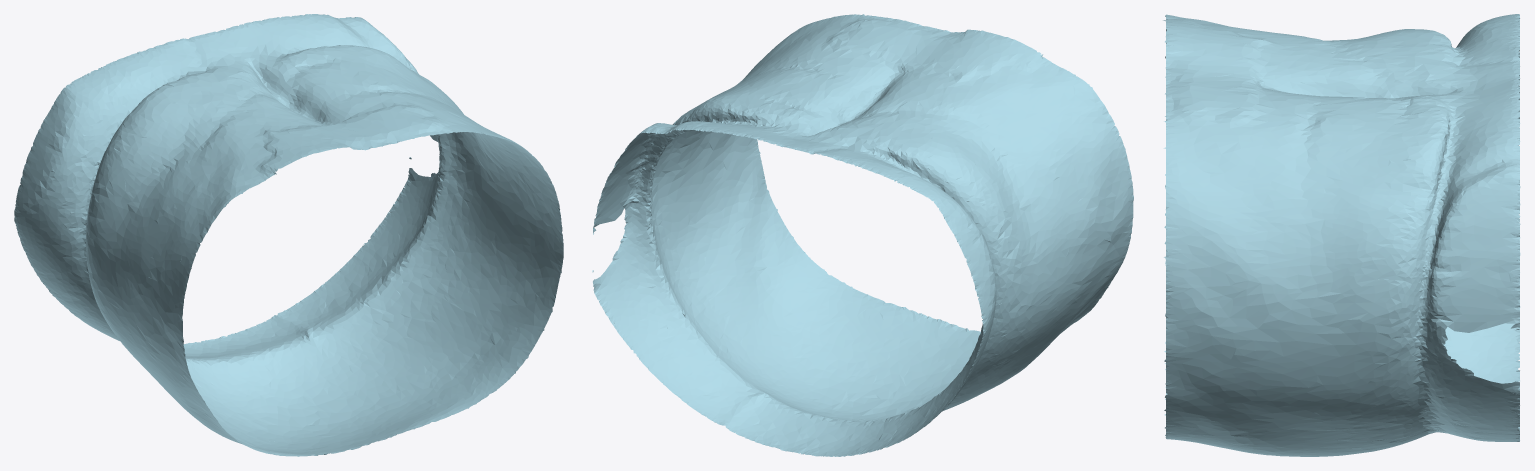
File: skin.obj
The picture shows the model from 3 angles, left to right: view 1: azimuth 30°, elevation 25°; view 2: azimuth 150°, elevation 25°; view 3: azimuth 270°, elevation 25°; orthographic projection. The views are drawn at different scales.
Visible parts, largest first — view 1: grp1; view 2: grp1; view 3: grp1.
Boxes of the visible parts, x1=… form: grp1: x1=14, y1=14, x2=563, y2=456; grp1: x1=592, y1=14, x2=1133, y2=456; grp1: x1=1163, y1=14, x2=1520, y2=456.
Size of the model in its own units: 290 by 234 by 205.
